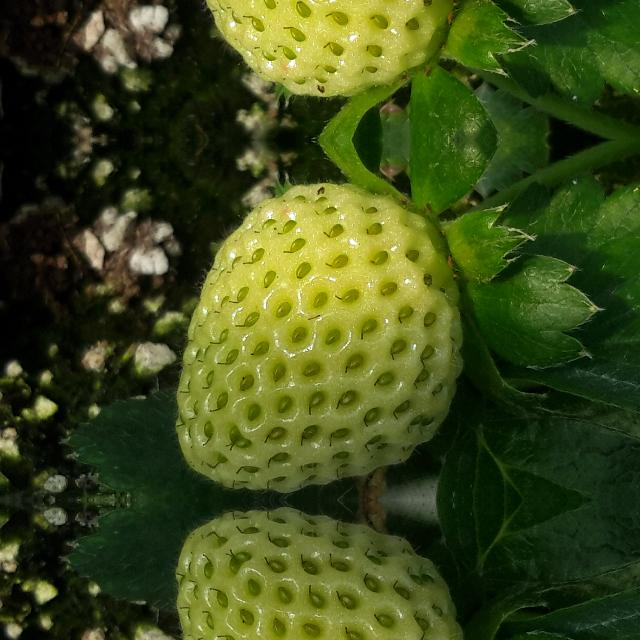Health_25: (175, 183, 462, 492), (175, 507, 462, 640), (175, 0, 462, 96)
